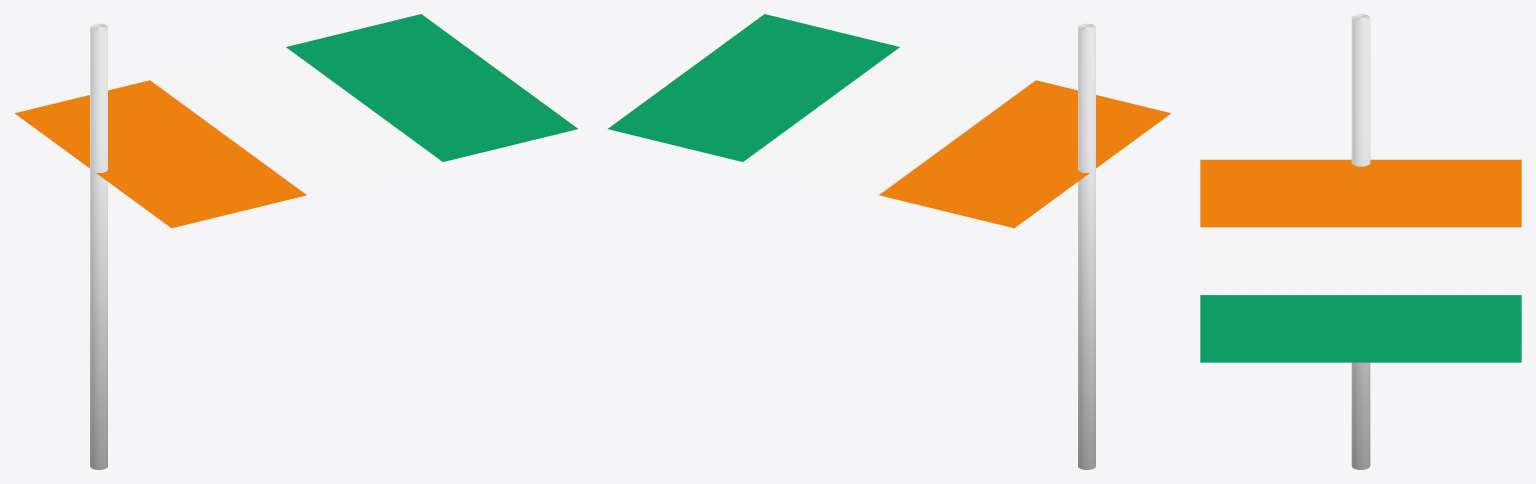
Rendered from Flag_Cote_Divoire.glb.
The picture shows the model from 3 angles, left to right: view 1: azimuth 30°, elevation 25°; view 2: azimuth 150°, elevation 25°; view 3: azimuth 270°, elevation 25°; orthographic projection. The views are drawn at different scales.
Parts seen in each view (by area): view 1: Base_Flag, Base_Pole; view 2: Base_Flag, Base_Pole; view 3: Base_Flag, Base_Pole.
Boxes of the visible parts, <box> form: Base_Flag: <box>15,14,577,228</box>; Base_Pole: <box>90,23,107,469</box>; Base_Flag: <box>608,14,1170,228</box>; Base_Pole: <box>1078,23,1095,469</box>; Base_Flag: <box>1200,159,1521,362</box>; Base_Pole: <box>1351,14,1370,469</box>.
Size of the model in its own units: 3.11 by 3.2 by 2.07.
Materials: 2 (2 with a texture image).
